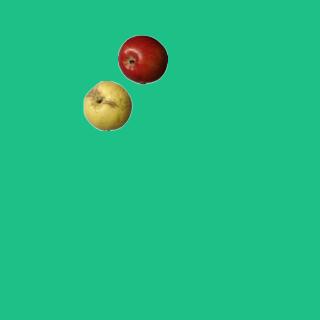Apple Braeburn: (117, 34, 167, 84)
Apple Golden 1: (82, 80, 132, 130)
